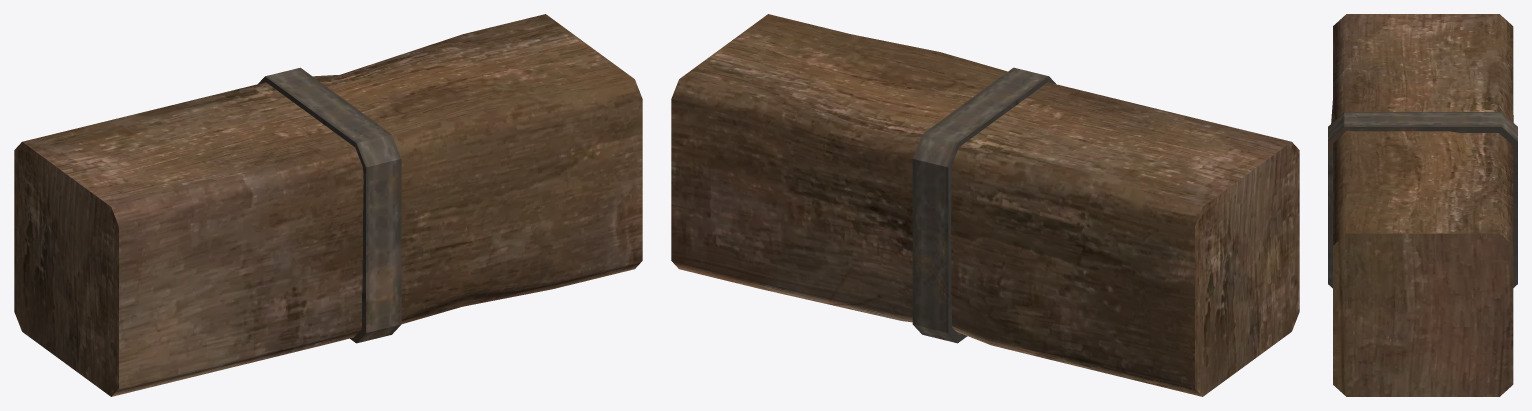
3 renders of one model, left to right at view 1: azimuth 30°, elevation 25°; view 2: azimuth 150°, elevation 25°; view 3: azimuth 270°, elevation 25°, orthographic. The views are drawn at different scales.
Parts seen in each view (by area): view 1: SM_BB_T3_Extended_Beam_Thick_Med_Horizontal_LOD0; view 2: SM_BB_T3_Extended_Beam_Thick_Med_Horizontal_LOD0; view 3: SM_BB_T3_Extended_Beam_Thick_Med_Horizontal_LOD0.
Part boxes in pixels (bbox=[...]): SM_BB_T3_Extended_Beam_Thick_Med_Horizontal_LOD0: bbox=[14, 14, 642, 396]; SM_BB_T3_Extended_Beam_Thick_Med_Horizontal_LOD0: bbox=[671, 14, 1299, 396]; SM_BB_T3_Extended_Beam_Thick_Med_Horizontal_LOD0: bbox=[1328, 14, 1517, 396].
Size of the model in its own units: 1.5 by 0.5477 by 0.5477.
Materials: 2 (2 with a texture image).
